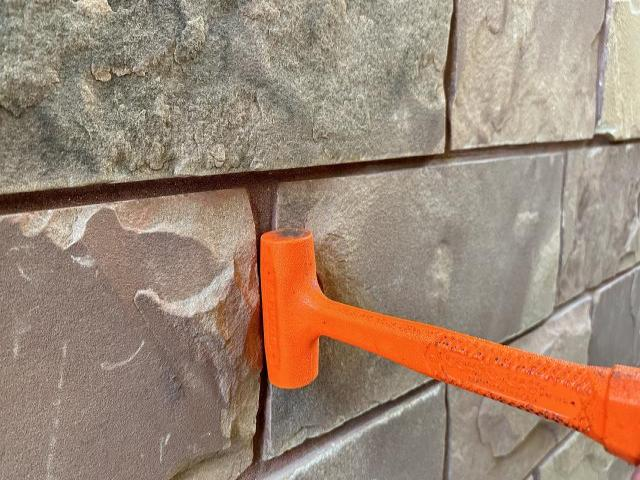hammer: (259, 227, 640, 466)
